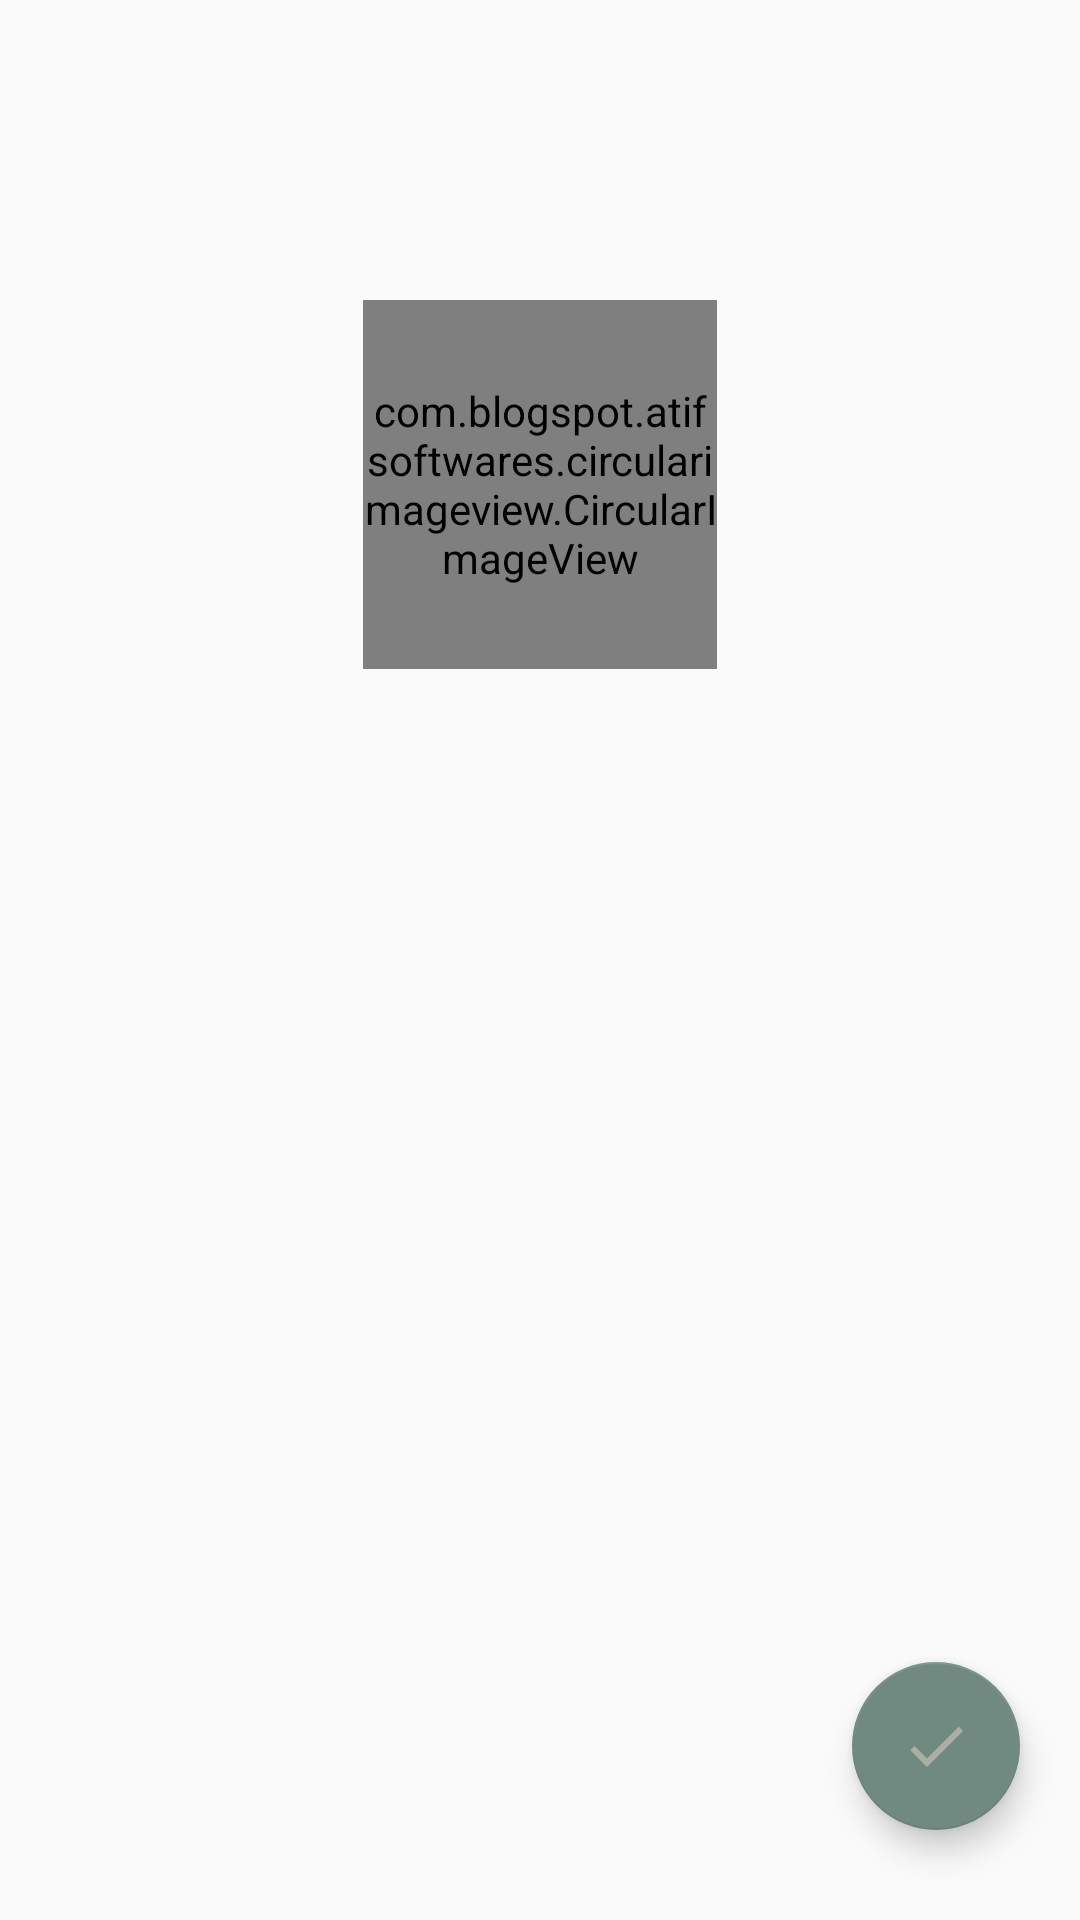

Icon bounding boxes for this 1080px x 1920px phone screenshot, format (x1, y1, x2, y2):
check: (852, 1662, 1020, 1830)
